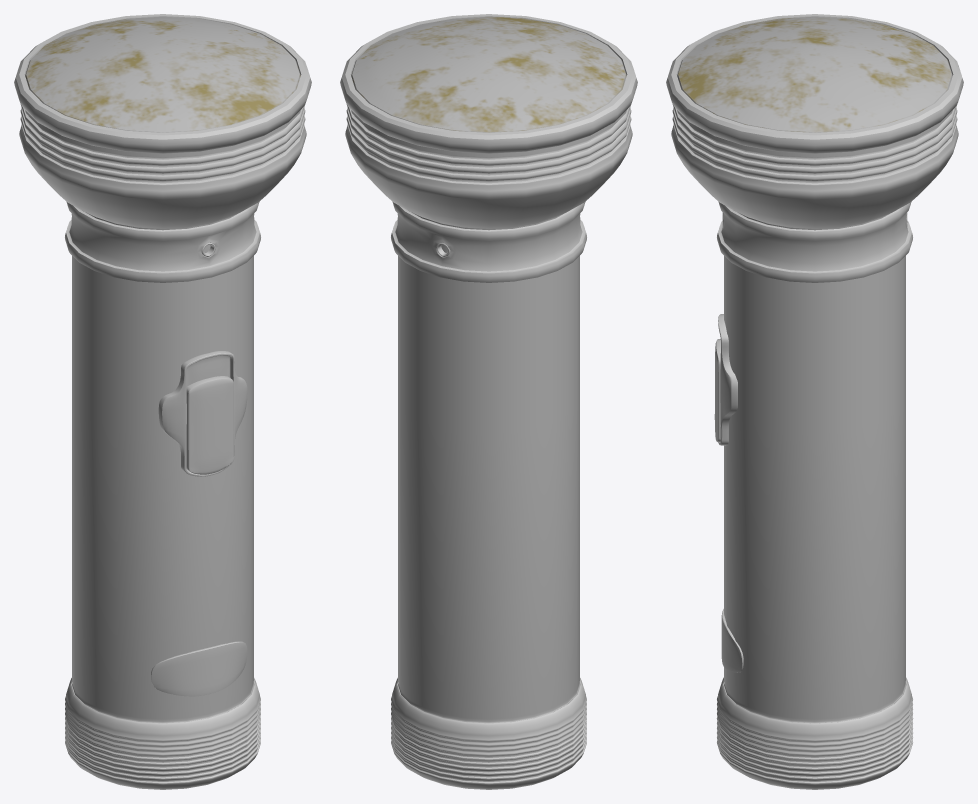
Rendered from flashlight.fbx.
3 views of the same model, side by side, from view 1: azimuth 30°, elevation 25°; view 2: azimuth 150°, elevation 25°; view 3: azimuth 270°, elevation 25° (orthographic).
Visible parts, largest first — view 1: flashlight; view 2: flashlight; view 3: flashlight.
Part boxes in pixels (box(x1,y1,x2,y2)): flashlight: box(14, 14, 311, 789); flashlight: box(340, 14, 637, 789); flashlight: box(666, 14, 963, 789).
Size of the model in its own units: 328 by 853 by 328.
